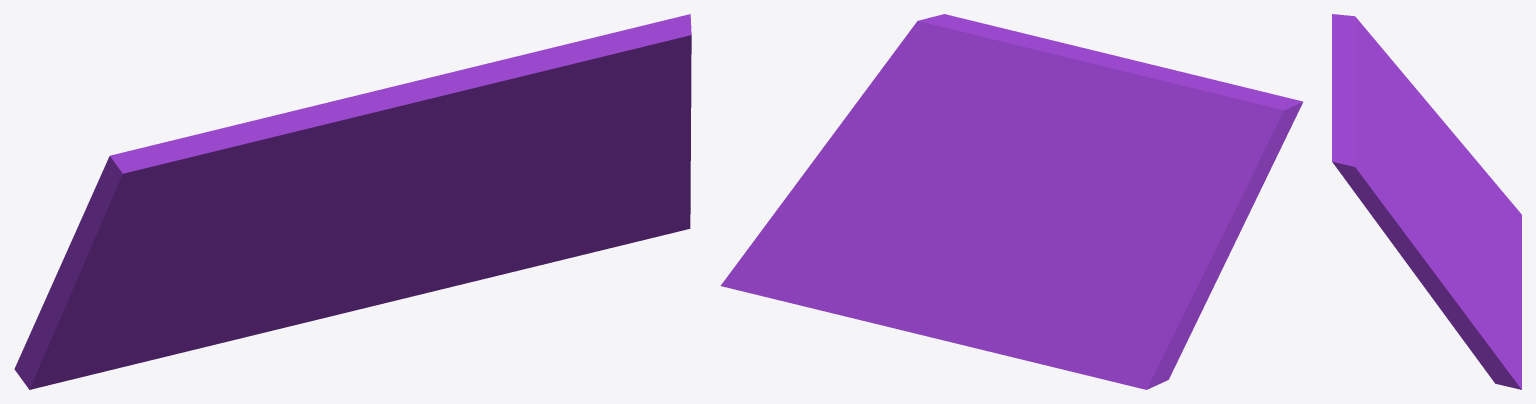
File: Window_126_chunks.fbx
The picture shows the model from 3 angles, left to right: view 1: azimuth 30°, elevation 25°; view 2: azimuth 150°, elevation 25°; view 3: azimuth 270°, elevation 25°; orthographic projection. The views are drawn at different scales.
Visible parts, largest first — view 1: Window_126_2, Window_126_1, Window_126_0, Window_126_3; view 2: Window_126_2, Window_126_0, Window_126_1, Window_126_3; view 3: Window_126_2, Window_126_0, Window_126_3, Window_126_1.
Part boxes in pixels (bbox=[...]): Window_126_2: bbox=[381, 14, 691, 287]; Window_126_1: bbox=[17, 165, 395, 389]; Window_126_0: bbox=[105, 30, 640, 200]; Window_126_3: bbox=[14, 226, 447, 372]; Window_126_2: bbox=[720, 14, 1015, 318]; Window_126_0: bbox=[959, 22, 1300, 199]; Window_126_1: bbox=[1047, 101, 1302, 387]; Window_126_3: bbox=[853, 191, 1152, 389]; Window_126_2: bbox=[1332, 148, 1521, 389]; Window_126_0: bbox=[1332, 14, 1433, 192]; Window_126_3: bbox=[1433, 180, 1521, 334]; Window_126_1: bbox=[1332, 14, 1514, 205].
Bounding box in the file's own units: 1735 × 763 × 720.
